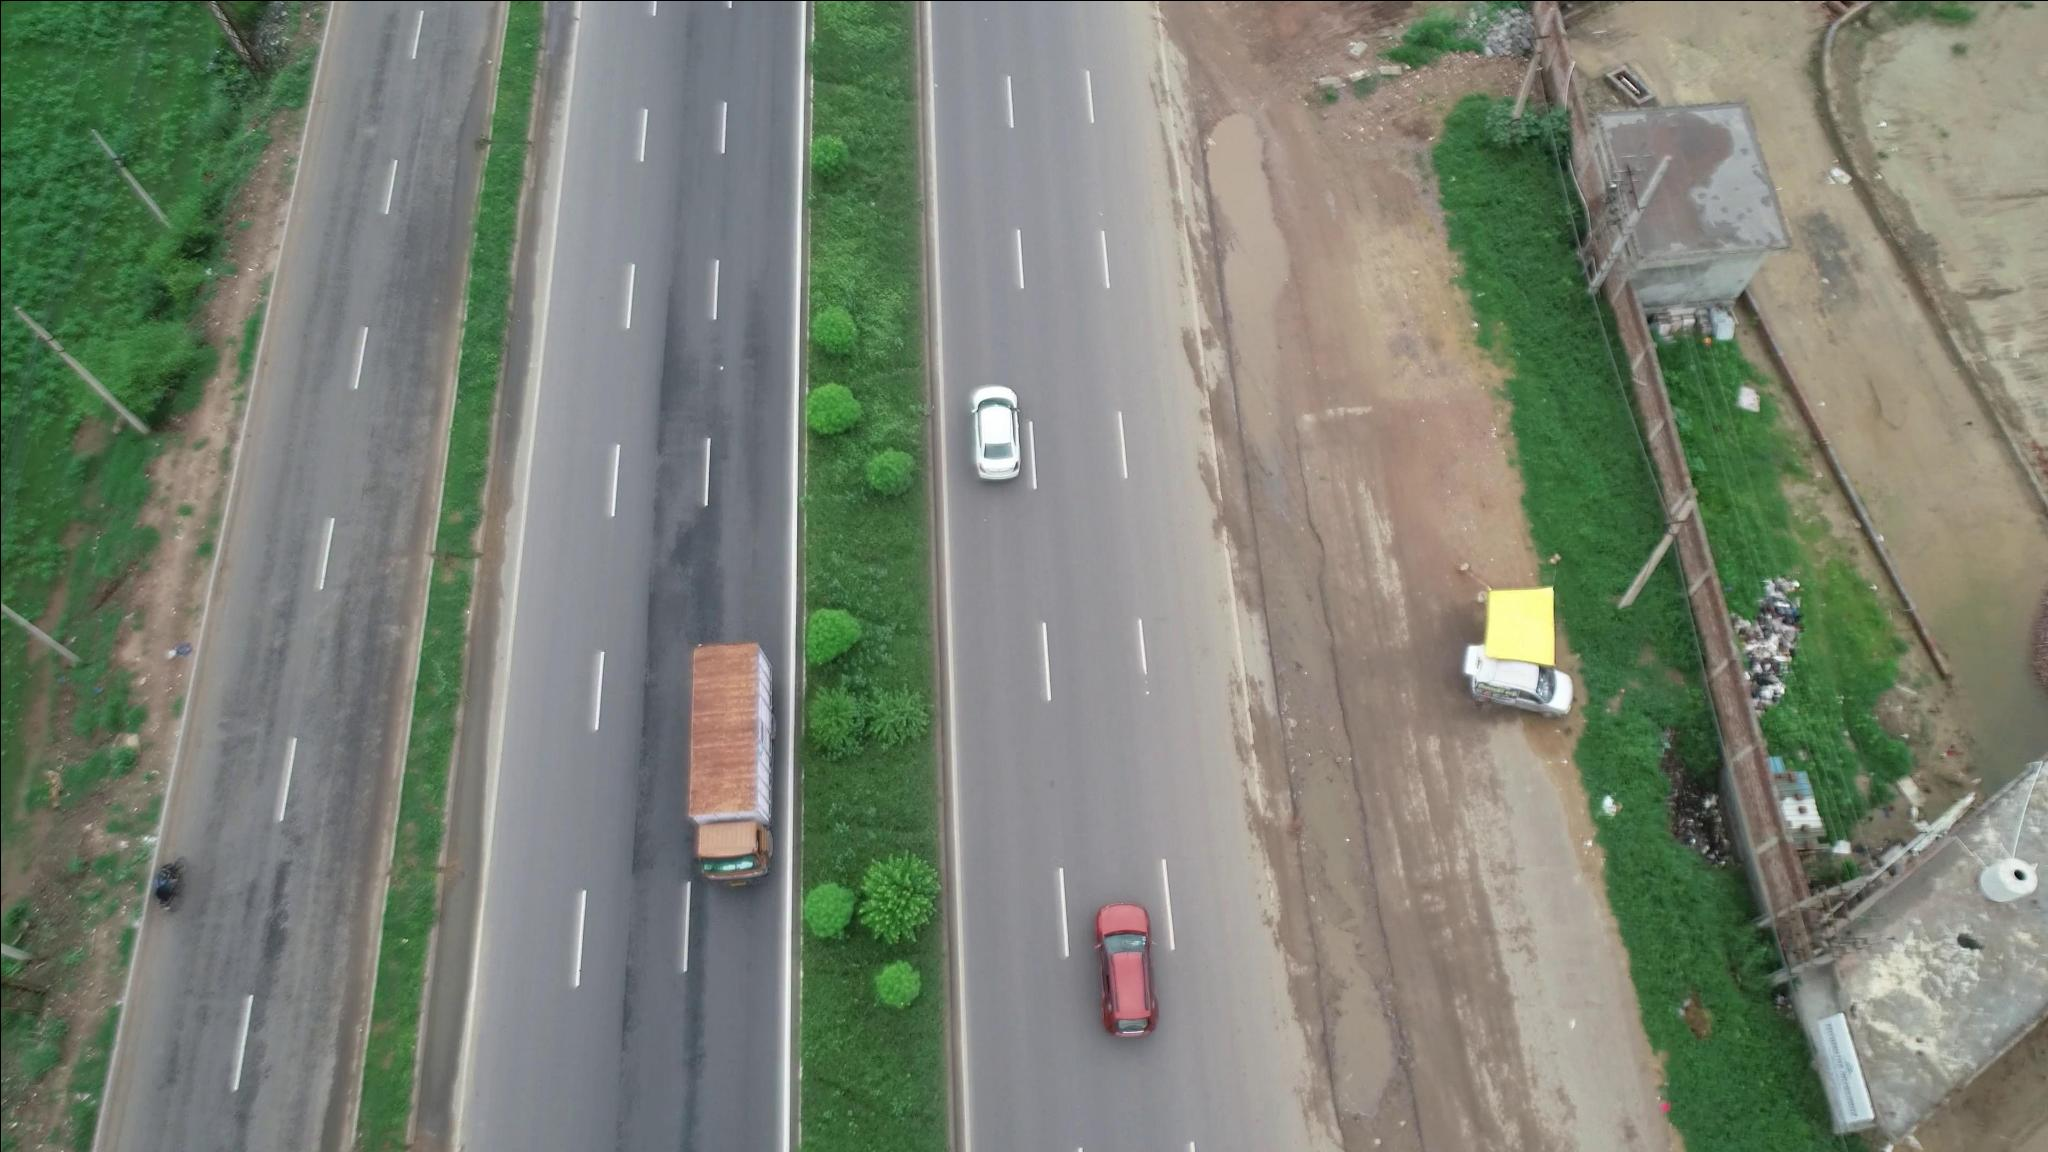Ravelling: (646, 324, 722, 622)
